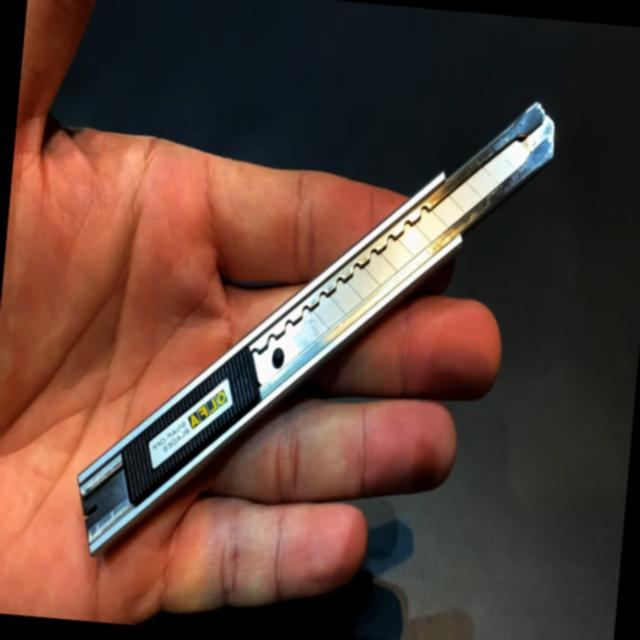cutter: (0, 17, 595, 609)
